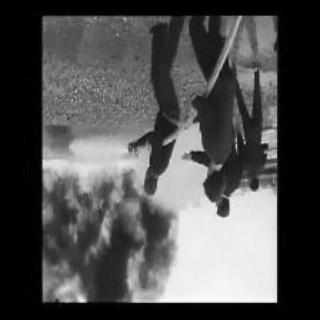Fire: (43, 155, 169, 251)
Smoke: (44, 215, 182, 303)
